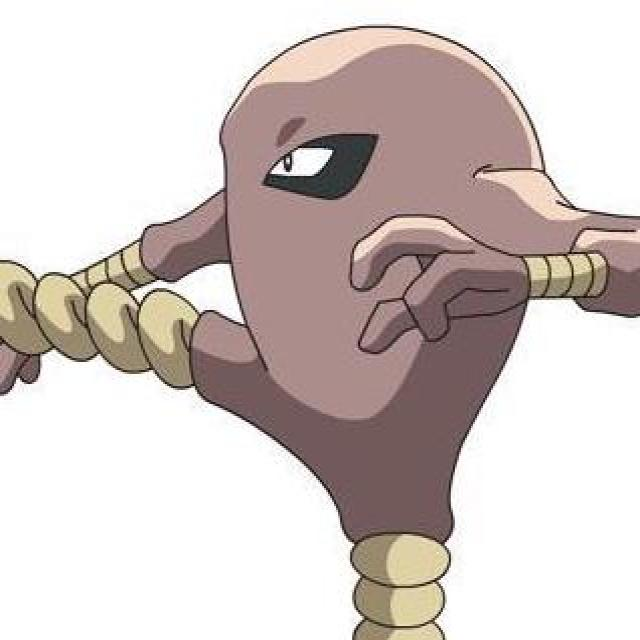Hitmonlee: (110, 26, 608, 629)
